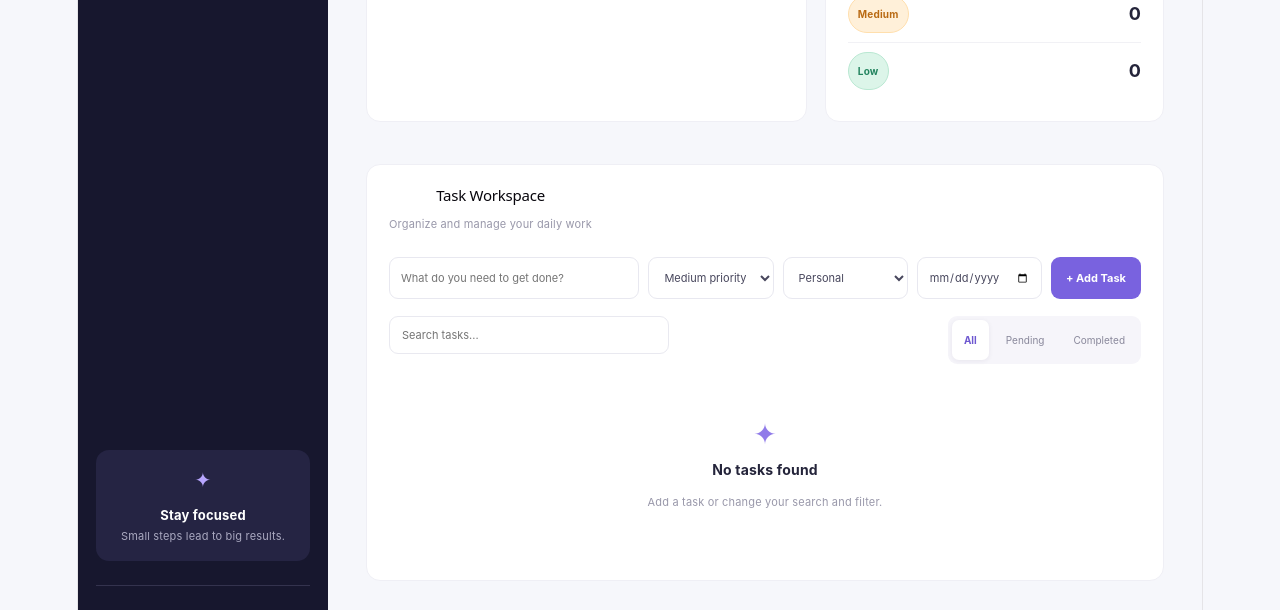
TaskOrbit Application › allows a user to delete a task
This screenshot has width=1280, height=610.
(page scrolled)
Add a task.
In the field with placeholder "What do you need to get done?": [514, 278] box x1=389 y1=257 x2=639 y2=299, type "Delete this task"
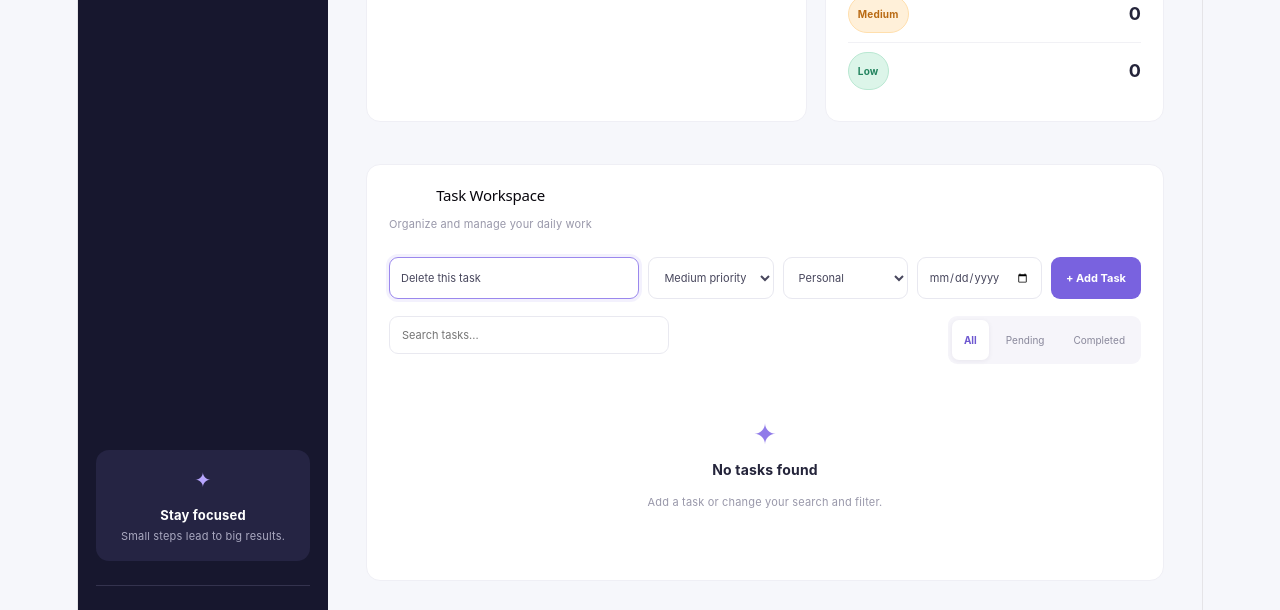
Click the button "+ Add Task": [1096, 278] box x1=1051 y1=257 x2=1141 y2=299
(page scrolled)
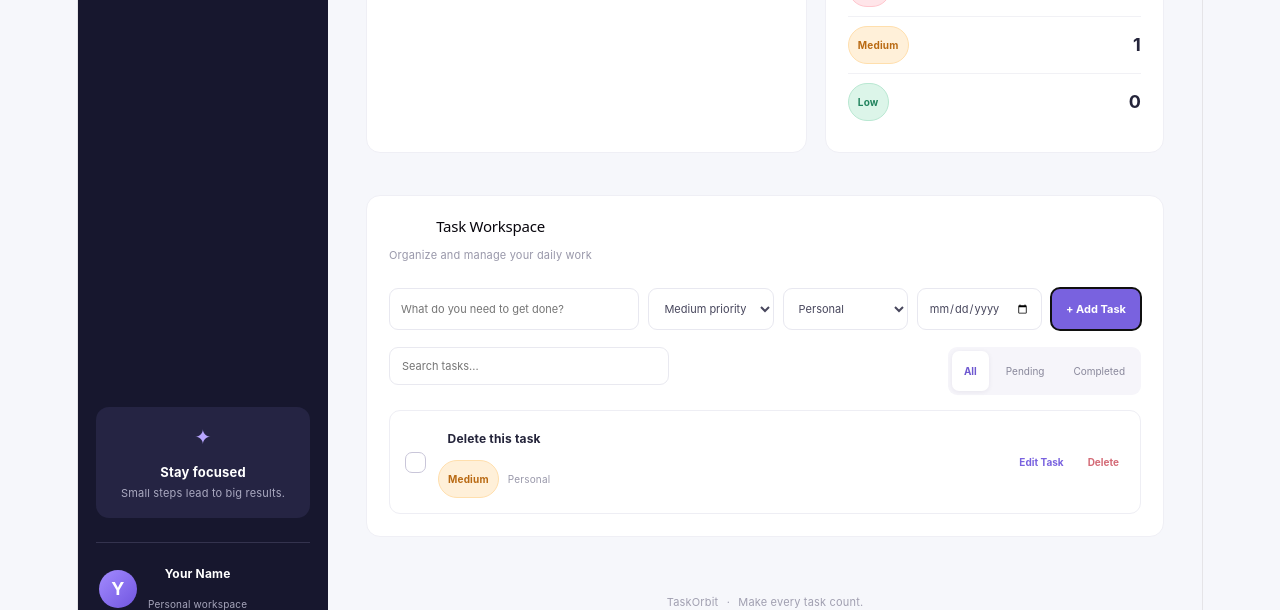
Result: the heading "Delete this task" is shown at x1=448 y1=431 x2=541 y2=446
Click the Delete button.
Click the button with aria-label "Delete task": [1103, 462] box x1=1082 y1=448 x2=1125 y2=476
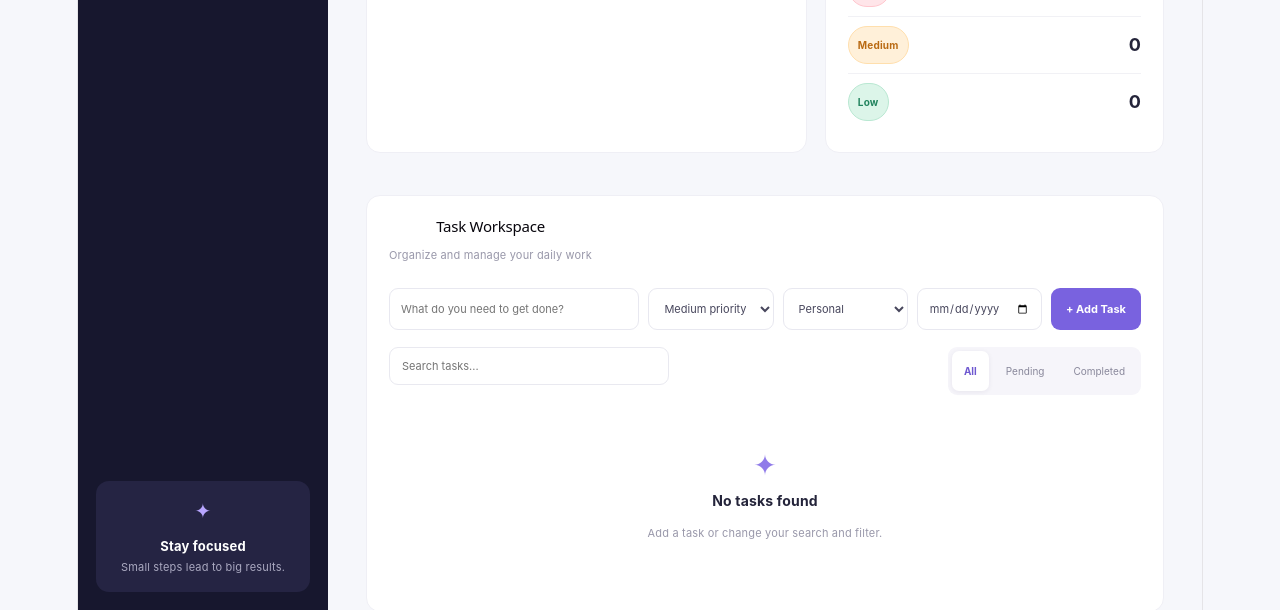
Result: the heading "Delete this task" is gone
